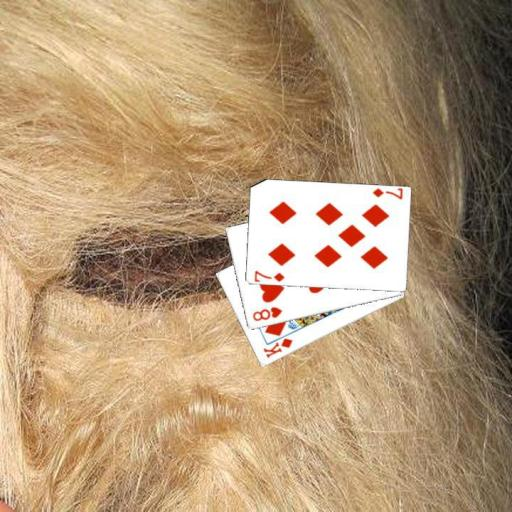7D: (251, 267, 286, 283), (369, 186, 404, 201)
8H: (249, 304, 284, 323)
KD: (261, 335, 295, 360)
